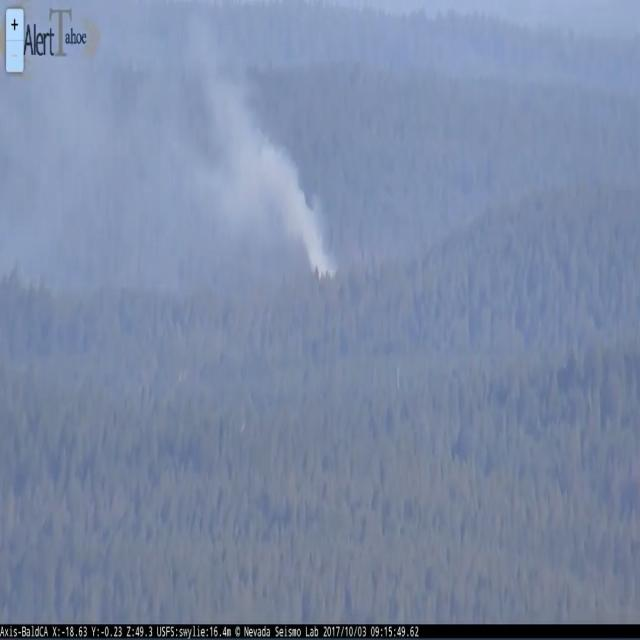smoke: (191, 19, 338, 283)
